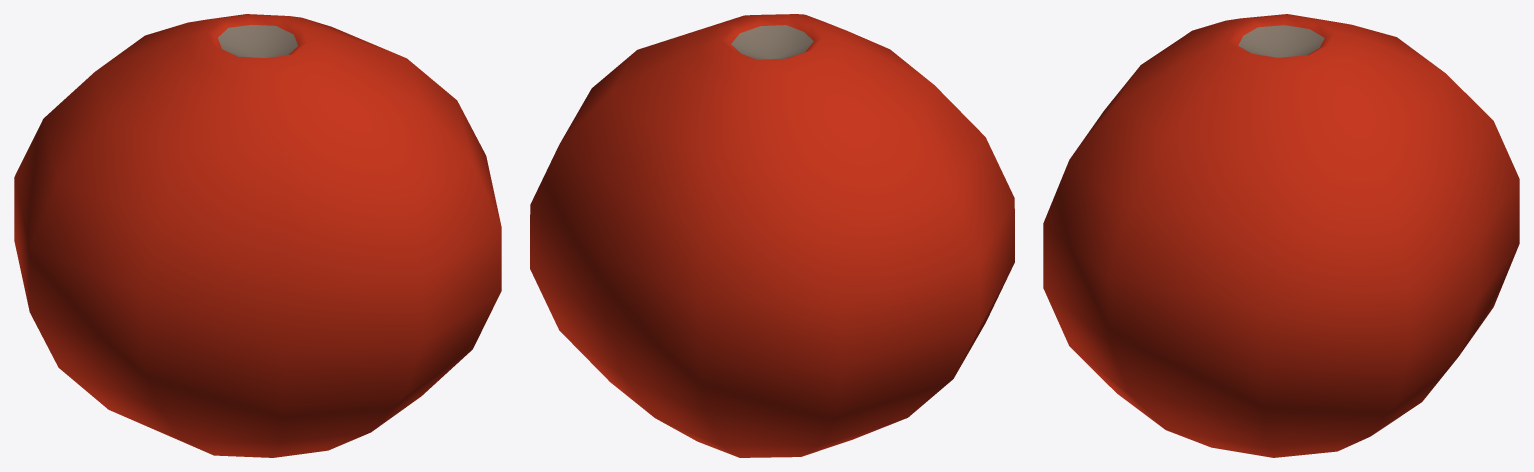
The model's file is Tomate.fbx.
3 views of the same model, side by side, from view 1: azimuth 30°, elevation 25°; view 2: azimuth 150°, elevation 25°; view 3: azimuth 270°, elevation 25° (orthographic).
Visible parts, largest first — view 1: StandLegumes1:polySurface1218; view 2: StandLegumes1:polySurface1218; view 3: StandLegumes1:polySurface1218.
Boxes of the visible parts, x1,y1,x2,y2 form: StandLegumes1:polySurface1218: (14,14,501,457); StandLegumes1:polySurface1218: (530,14,1014,457); StandLegumes1:polySurface1218: (1043,14,1519,457).
Size of the model in its own units: 0.0985 by 0.083 by 0.0933.
